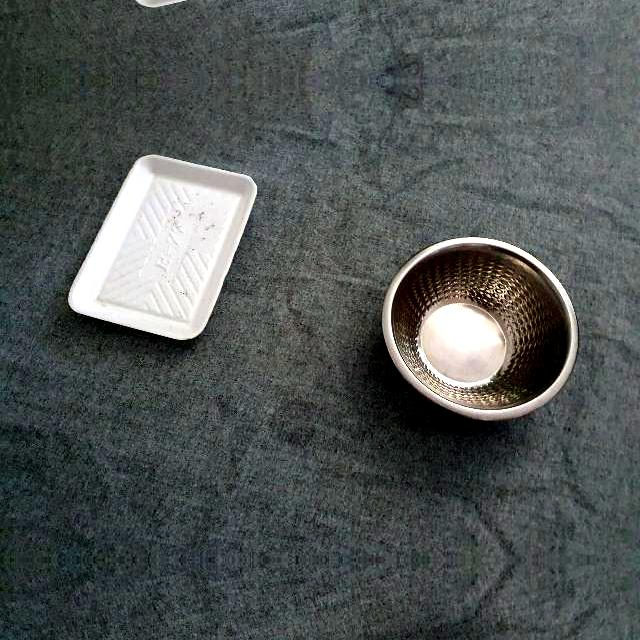Styrofoam: (64, 154, 260, 340), (68, 154, 257, 339)
